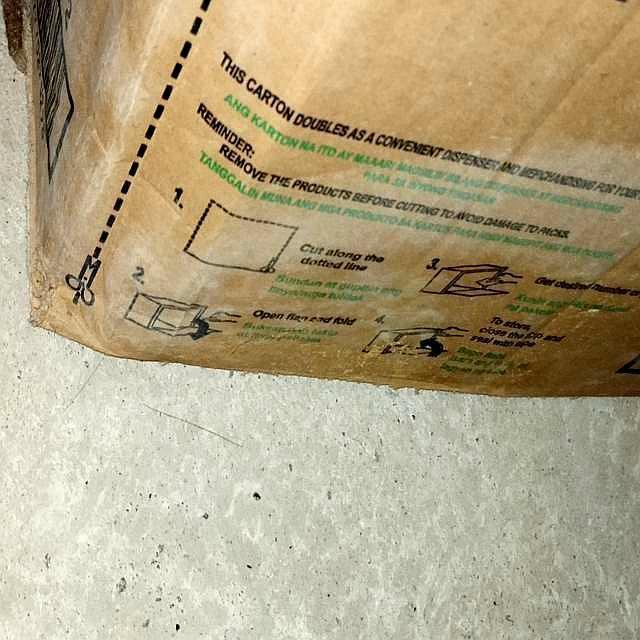Biodegradable: (9, 1, 640, 399)
